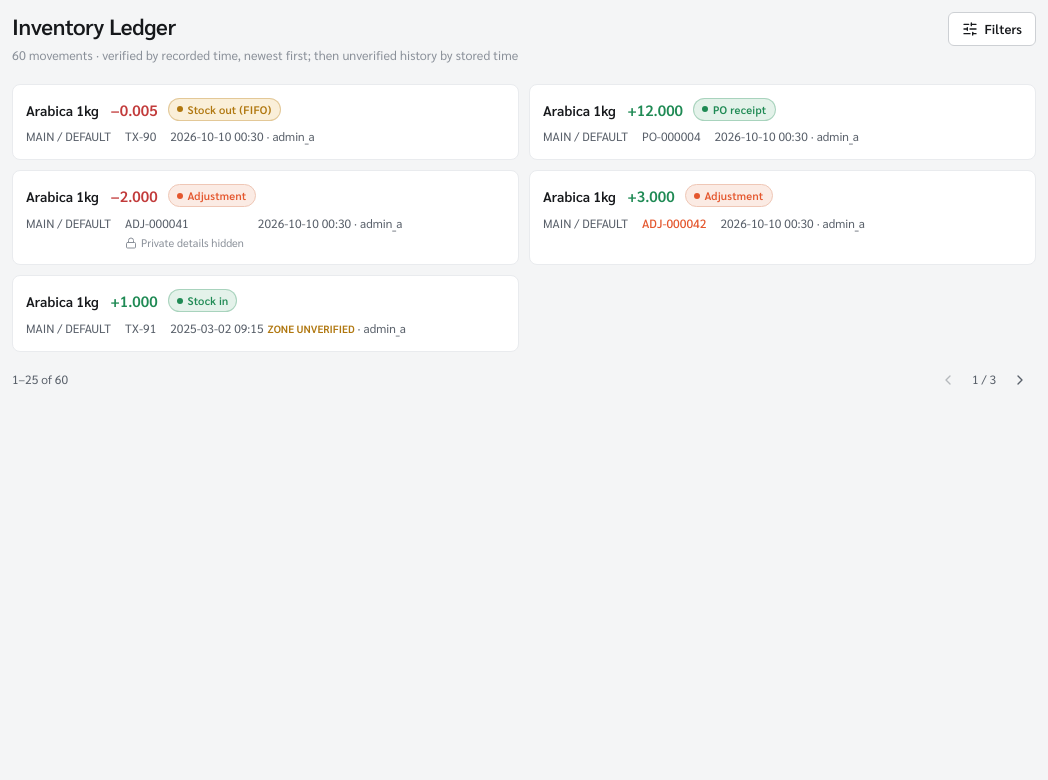
Test: InventoryLedgerView — iPad and iPhone › iPhone renders movement cards and collapses filters behind a toggle
The width and height of the screenshot is (1048, 780).
expect the text "Arabica 1kg" is shown 5 times: met, box [26,100,99,121]; [543,100,616,121]; [26,186,99,208]; [543,186,616,208]; [26,291,99,313]
expect the text "−0.005" is shown: met, box [111,98,158,121]
Click the button "Filters": (992, 29) [948,12,1036,46]
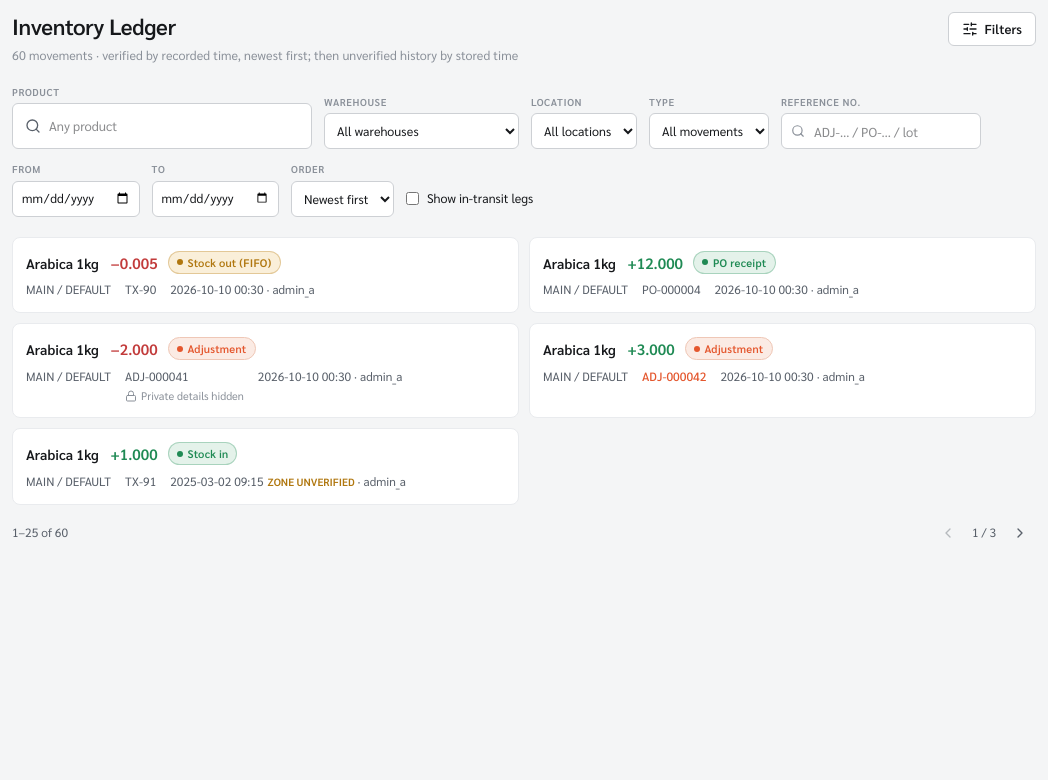
expect the dropdown labelled "Warehouse" is shown: met, box [324,113,519,149]
